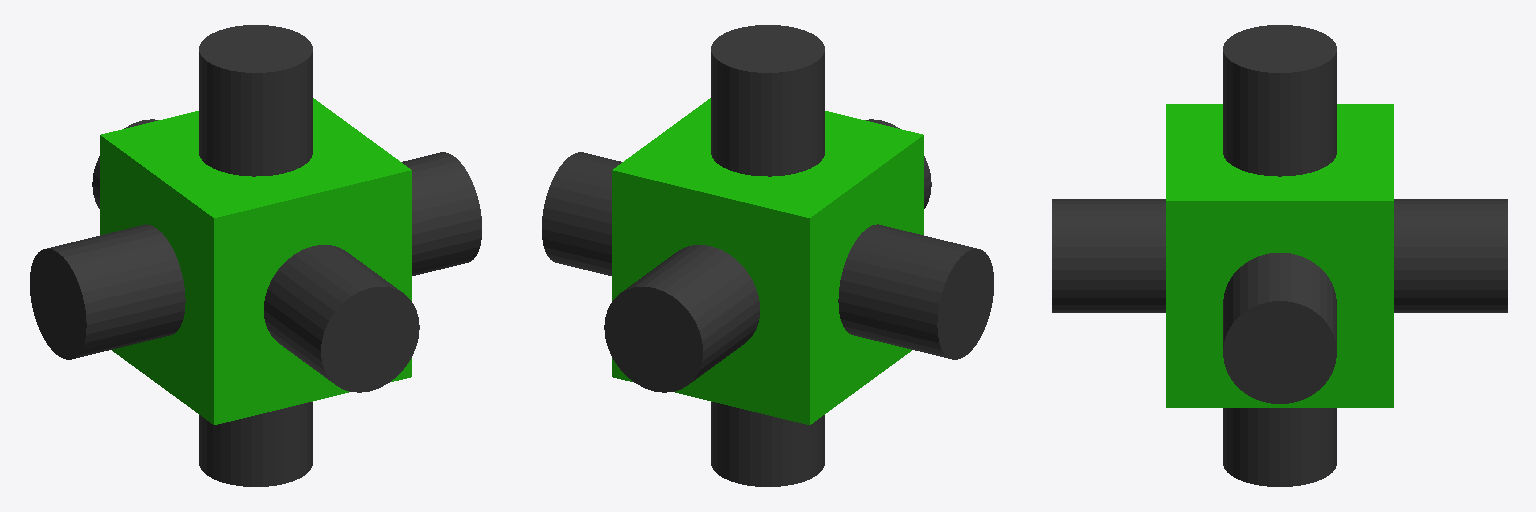
Rendered from CubeWithRods.obj.
3 renders of one model, left to right at view 1: azimuth 30°, elevation 25°; view 2: azimuth 150°, elevation 25°; view 3: azimuth 270°, elevation 25°, orthographic.
Visible parts, largest first — view 1: Cube, Cylinder.001, Cylinder.002, Cylinder; view 2: Cube, Cylinder.001, Cylinder.002, Cylinder; view 3: Cube, Cylinder, Cylinder.001, Cylinder.002.
Part boxes in pixels (bbox=[...]): Cube: bbox=[100, 98, 411, 424]; Cylinder.001: bbox=[199, 25, 312, 486]; Cylinder.002: bbox=[30, 152, 481, 359]; Cylinder: bbox=[92, 119, 419, 392]; Cube: bbox=[612, 98, 923, 424]; Cylinder.001: bbox=[711, 25, 824, 486]; Cylinder.002: bbox=[542, 152, 993, 359]; Cylinder: bbox=[604, 119, 931, 392]; Cube: bbox=[1166, 104, 1393, 407]; Cylinder: bbox=[1052, 199, 1507, 312]; Cylinder.001: bbox=[1223, 25, 1336, 486]; Cylinder.002: bbox=[1223, 253, 1336, 403].
Bounding box in the file's own units: 4 × 4 × 4.